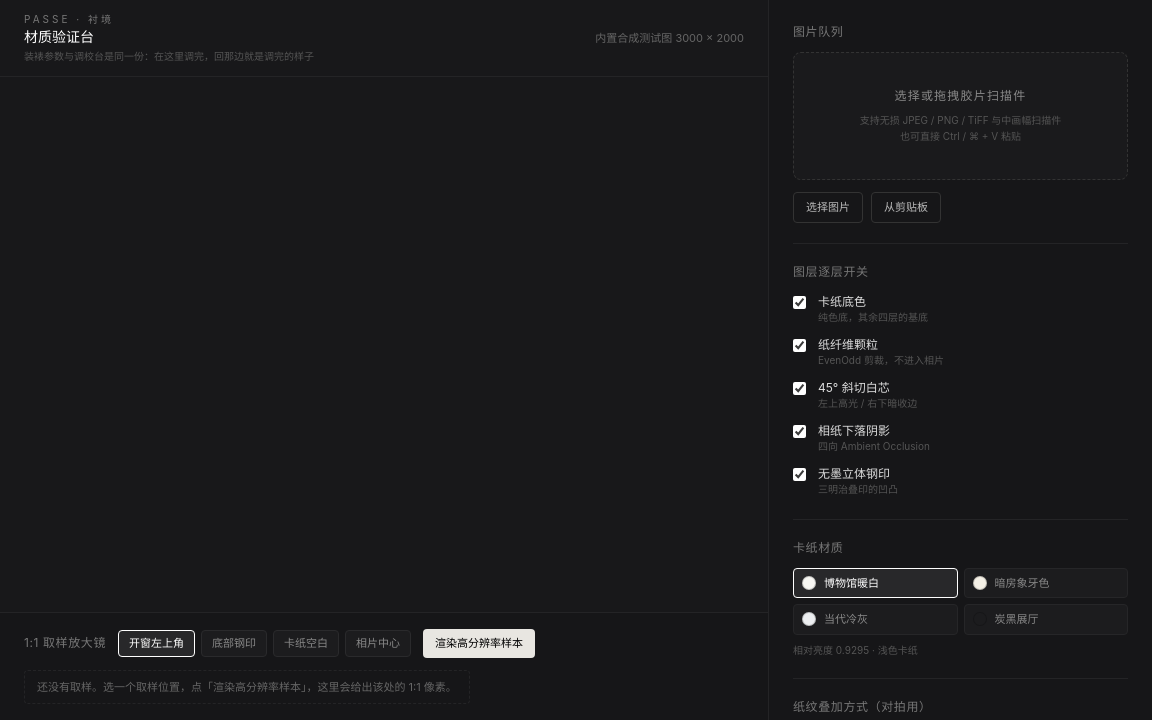
Test: 验证台 · 放大镜的未取样态 › 点渲染之后占位消失、画布露出来，且采样真的画上去了
The image size is (1152, 720).
Click the button "渲染高分辨率样本" at [479, 643], box 423,629 -> 535,658
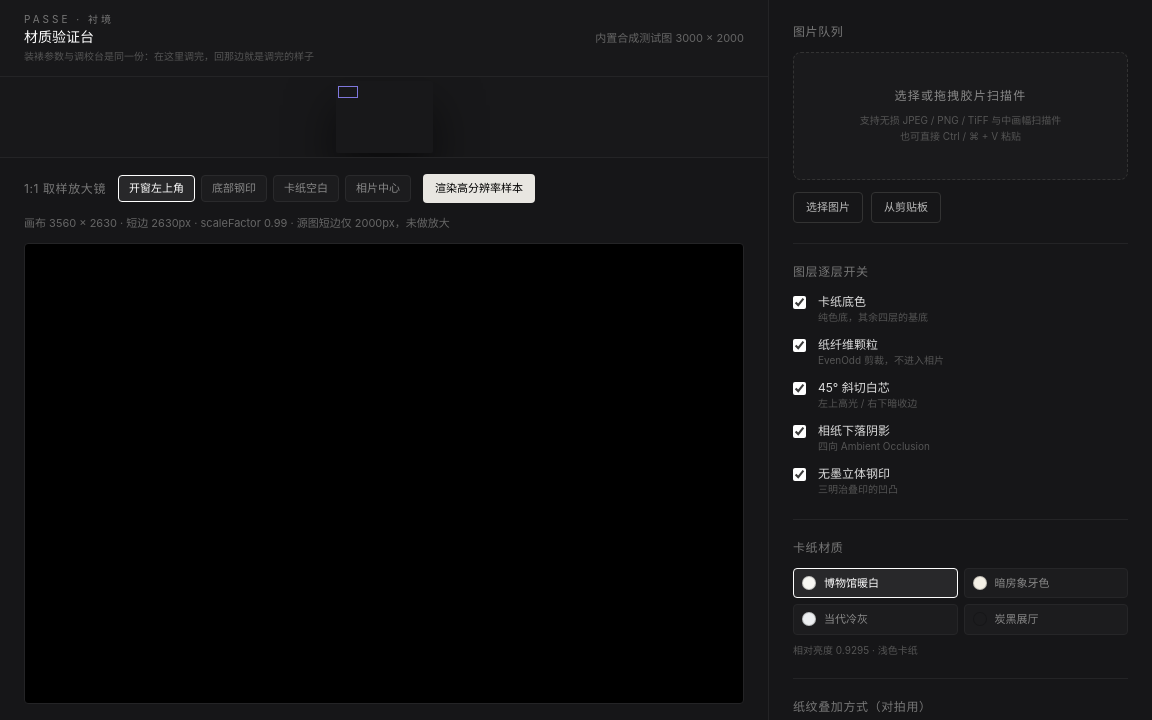
Check: the drawing below "1:1 取样放大镜" is shown, box 25,244 -> 743,703
Check: the text "画布" is shown, box 24,216 -> 450,230
Check: the text "scaleFactor" is shown, box 24,216 -> 450,230
